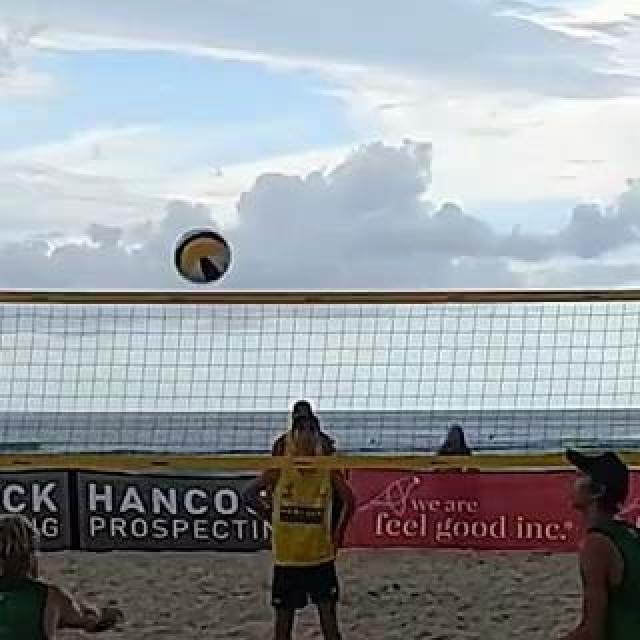volleyball: (176, 229, 232, 285)
